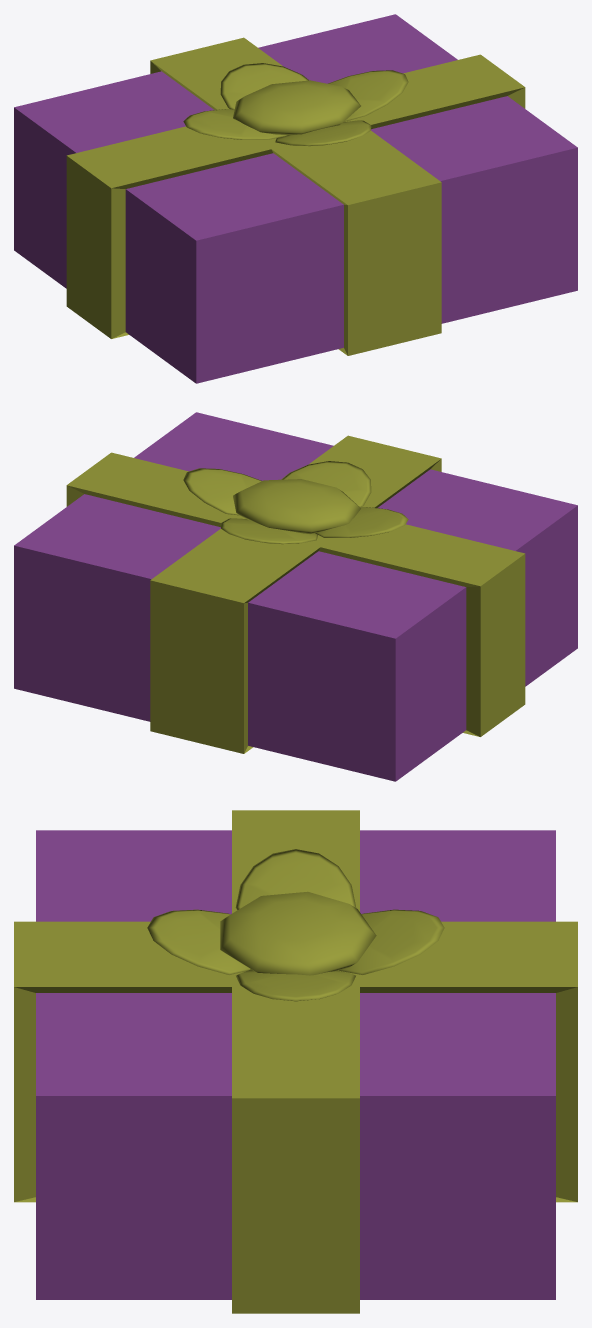
The model's file is Decoration_Present2.fbx.
3 renders of one model, top to bottom at view 1: azimuth 30°, elevation 25°; view 2: azimuth 150°, elevation 25°; view 3: azimuth 270°, elevation 25°, orthographic. The views are drawn at different scales.
Parts seen in each view (by area): view 1: Decoration_Present2; view 2: Decoration_Present2; view 3: Decoration_Present2.
Part boxes in pixels (x1,y1,x2,y2): Decoration_Present2: [14, 14, 577, 383]; Decoration_Present2: [14, 412, 577, 781]; Decoration_Present2: [14, 810, 577, 1313].
Bounding box in the file's own units: 0.2626 × 0.1068 × 0.2172.
